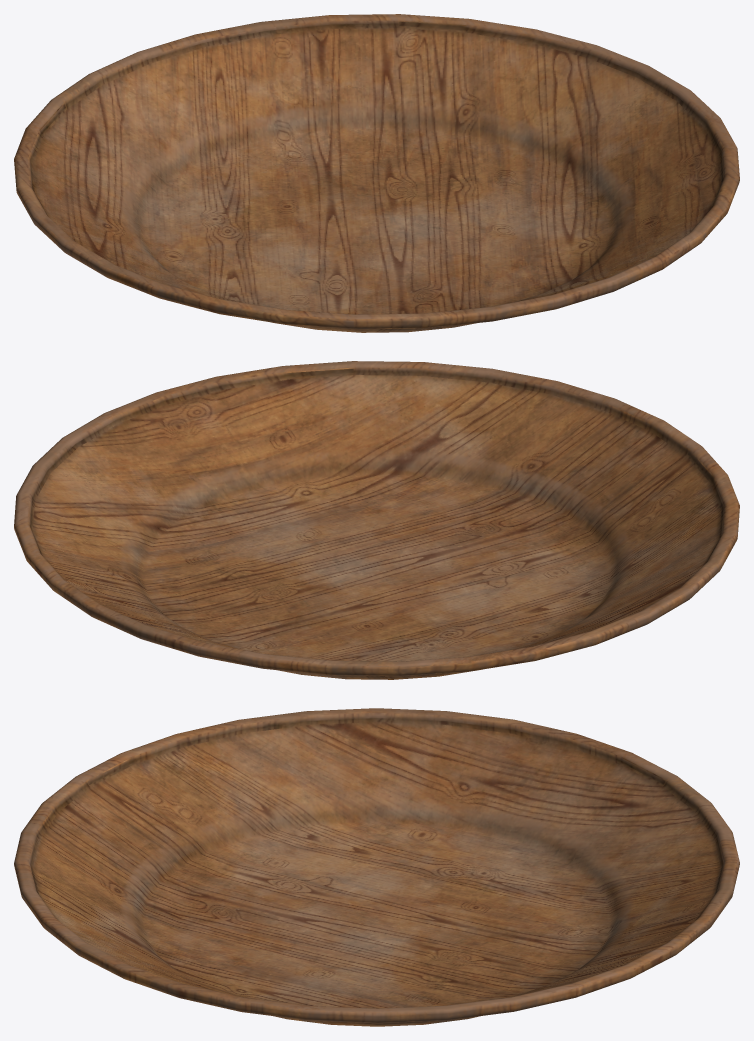
File: WoodPlate.obj
The picture shows the model from 3 angles, top to bottom: view 1: azimuth 30°, elevation 25°; view 2: azimuth 150°, elevation 25°; view 3: azimuth 270°, elevation 25°; orthographic projection.
Parts seen in each view (by area): view 1: Wooden_Plate_-_Historic_Environment_Scotland_Object_0; view 2: Wooden_Plate_-_Historic_Environment_Scotland_Object_0; view 3: Wooden_Plate_-_Historic_Environment_Scotland_Object_0.
Part boxes in pixels (box(x1,y1,x2,y2)): Wooden_Plate_-_Historic_Environment_Scotland_Object_0: box(14, 14, 739, 332); Wooden_Plate_-_Historic_Environment_Scotland_Object_0: box(14, 361, 739, 679); Wooden_Plate_-_Historic_Environment_Scotland_Object_0: box(14, 708, 739, 1026).
Bounding box in the file's own units: 209 × 23.43 × 209.
